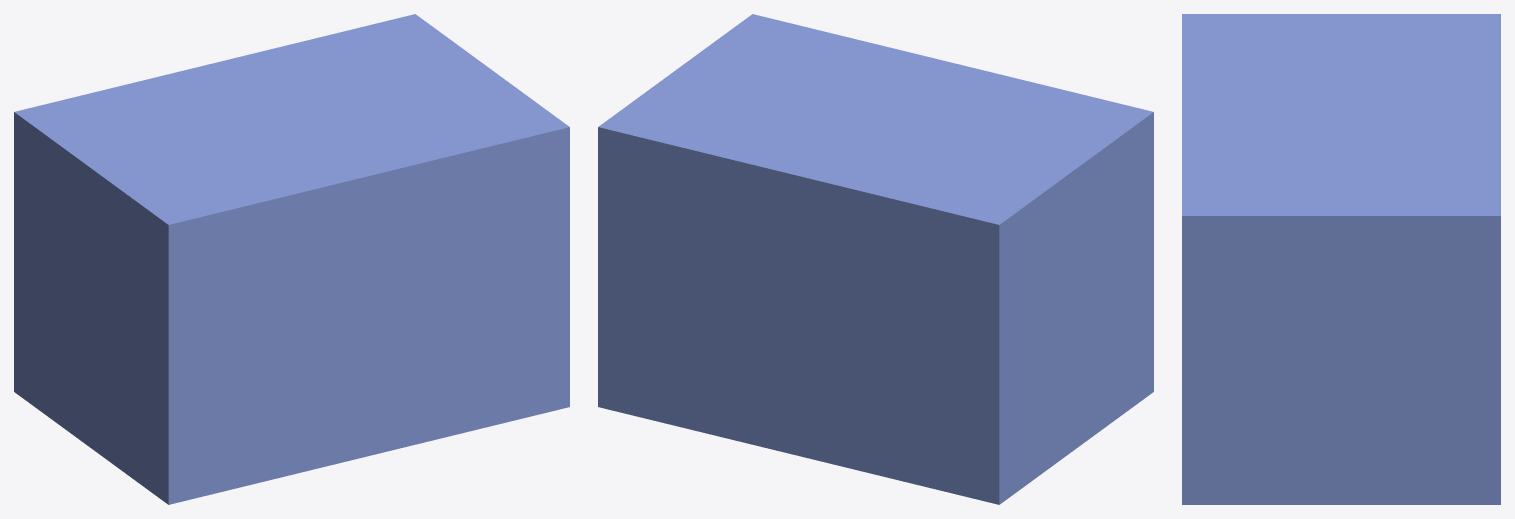
The picture shows the model from 3 angles, left to right: view 1: azimuth 30°, elevation 25°; view 2: azimuth 150°, elevation 25°; view 3: azimuth 270°, elevation 25°; orthographic projection. The views are drawn at different scales.
Visible parts, largest first — view 1: blockL-ColVis; view 2: blockL-ColVis; view 3: blockL-ColVis.
Boxes of the visible parts, x1,y1,x2,y2 form: blockL-ColVis: [14, 14, 569, 504]; blockL-ColVis: [598, 14, 1153, 504]; blockL-ColVis: [1182, 14, 1500, 504].
Bounding box in the file's own units: 3 × 2 × 2.
